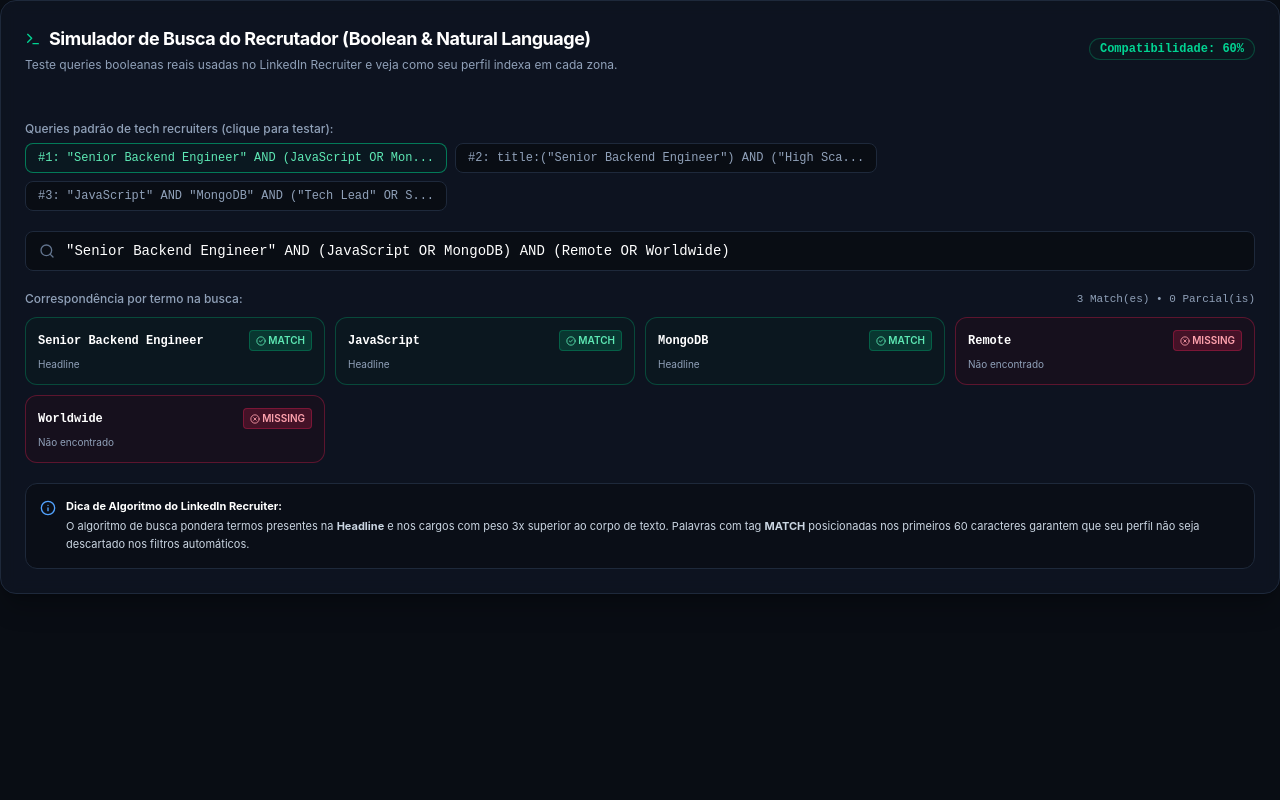
Test case: RecruiterSearchSimulator Component › does NOT false-match Go inside MongoDB or Java inside JavaScript
This screenshot has width=1280, height=800.
Step 1. Replace the text in the field with placeholder "Ex: \"Senior Backend Engineer\" AND (Java OR Go) AND Kafka" with "Go AND Java" → (640, 251), box [25, 231, 1255, 271]
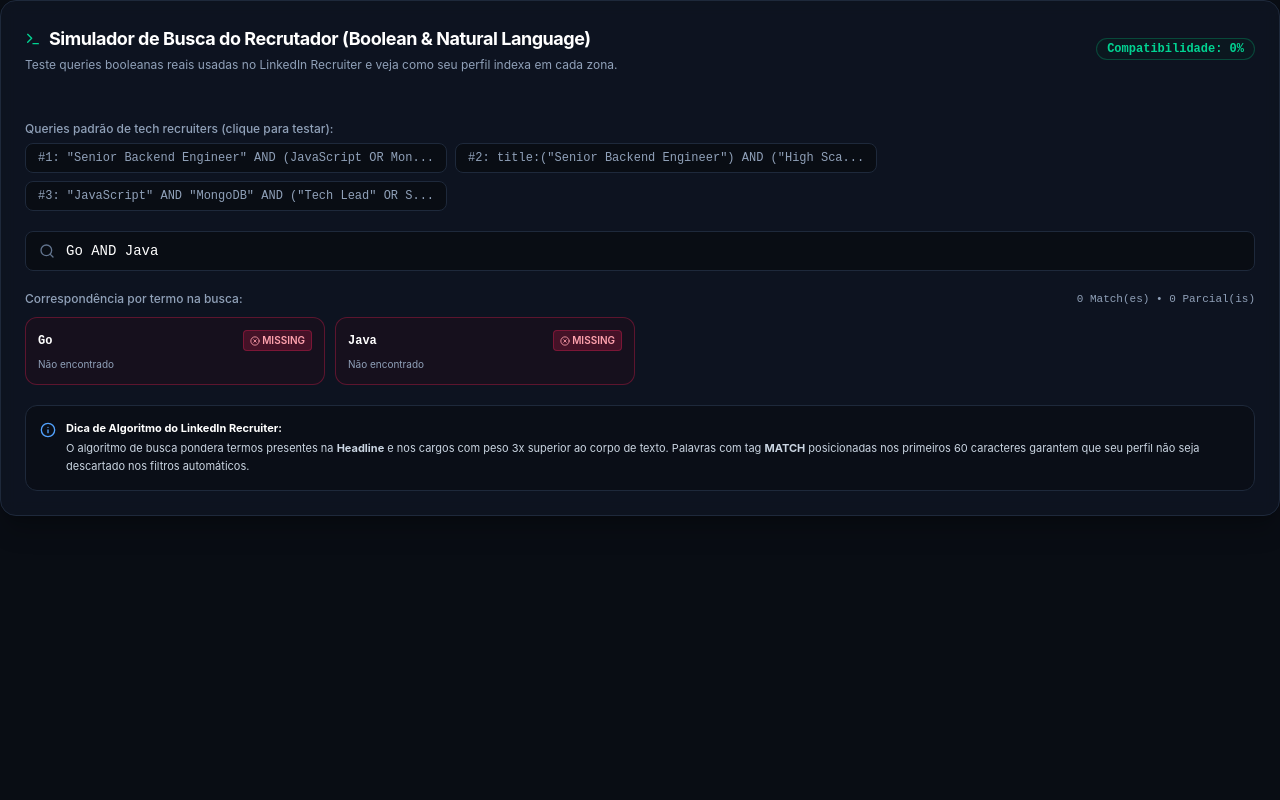
Expected: the text "Go" is shown, [38, 332, 52, 348]
Expected: the text "0 Match(es) • 0 Parcial(is)" is shown, [1077, 292, 1255, 306]
Expected: the text "MISSING" is shown 2 times, [243, 330, 312, 351]; [553, 330, 622, 351]
